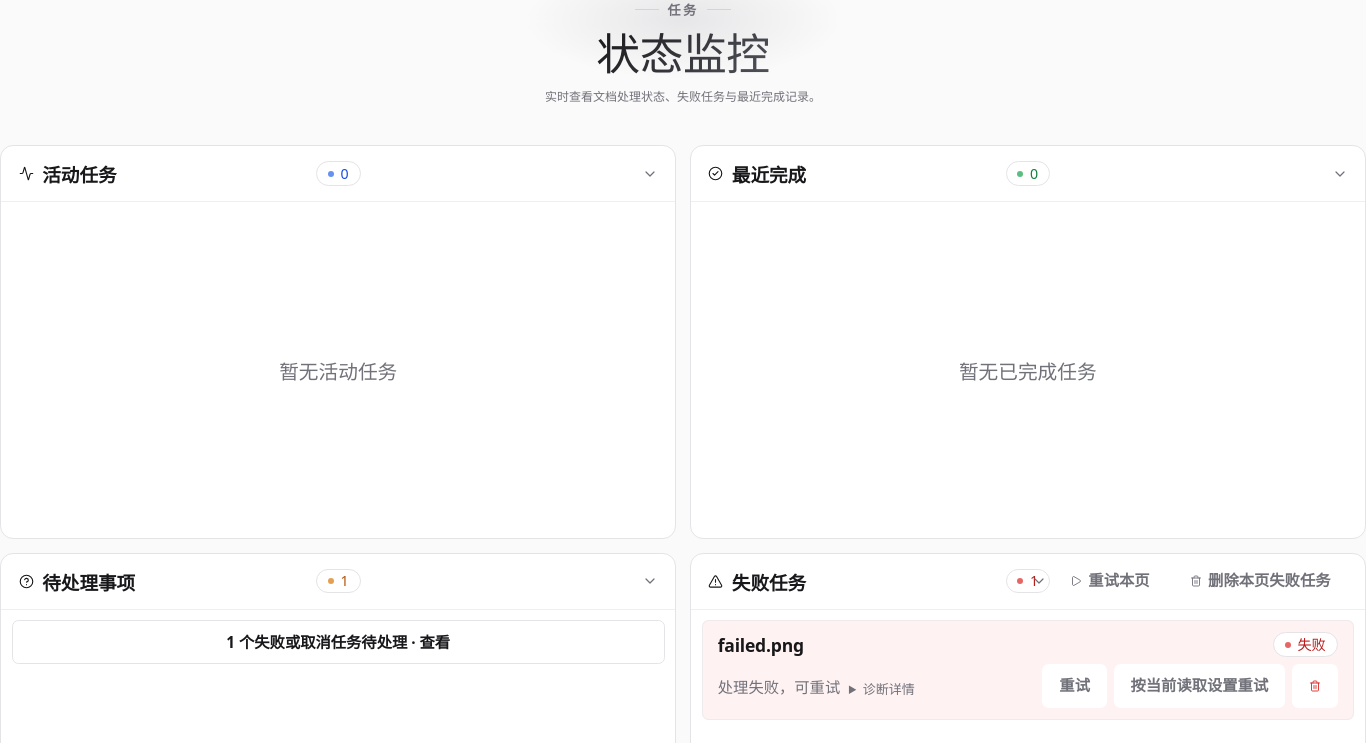
Test: TaskQueuePage › deletes a failed task directly without confirmation
Expected: the text "failed.png" is shown, [718,633,804,657]
Note: 失败任务没有产生数据：直接点删除，不弹确认
Click the button titled "删除任务（失败任务没有产生数据，直接删除不确认）": (1315, 686) [1292,664,1338,708]
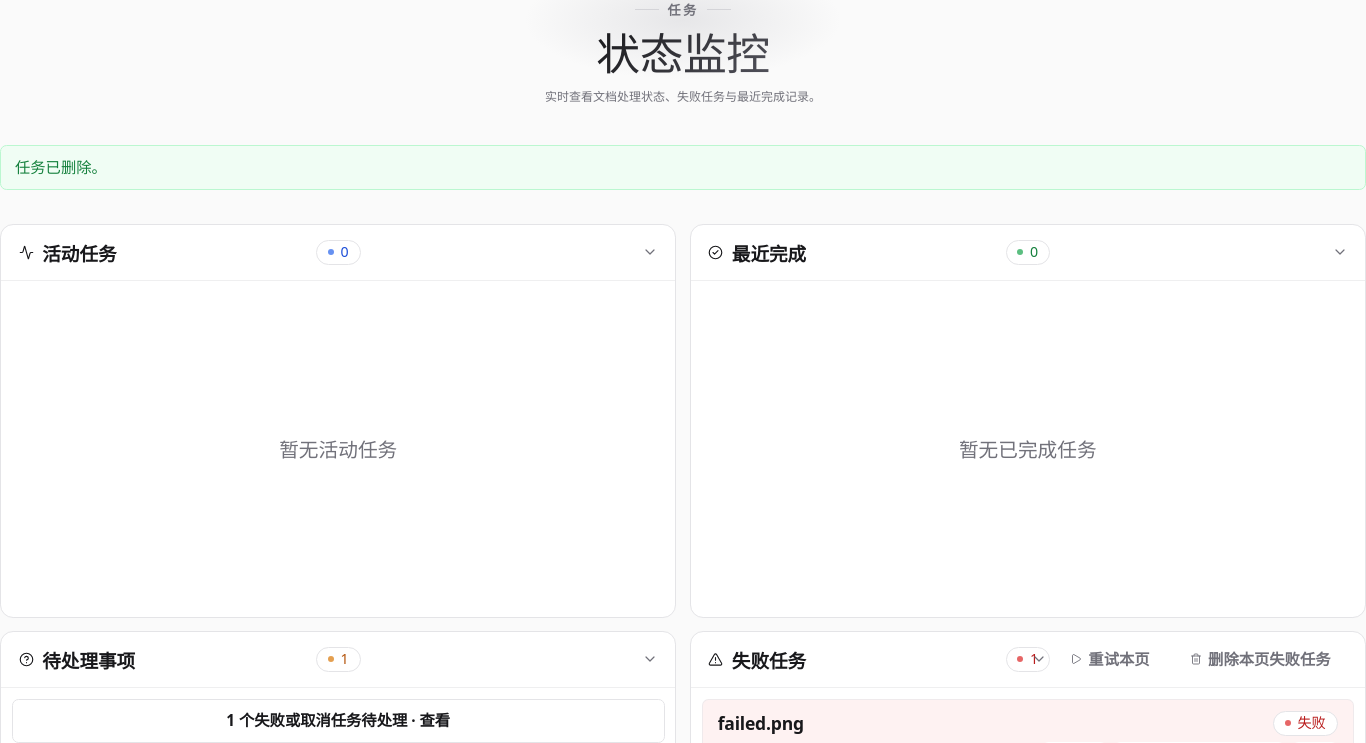
Expected: the text "任务已删除。" is shown, [0,145,1365,190]
